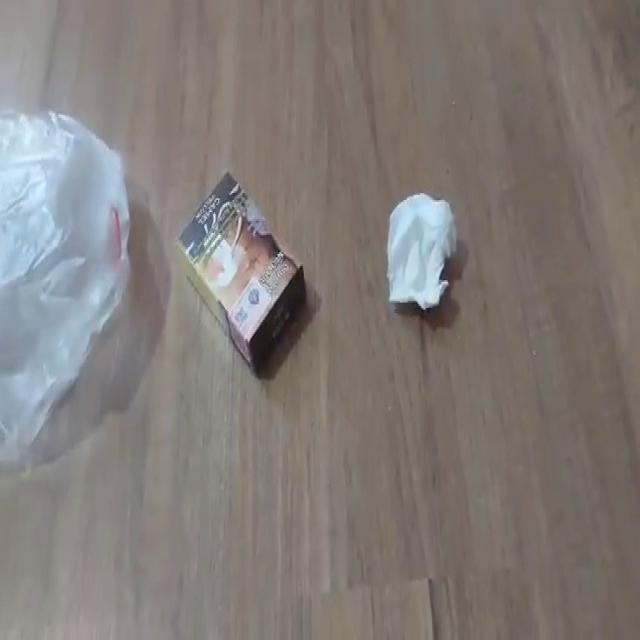Anorganik: (1, 106, 134, 468)
Organik: (177, 167, 312, 384), (384, 186, 460, 318)
